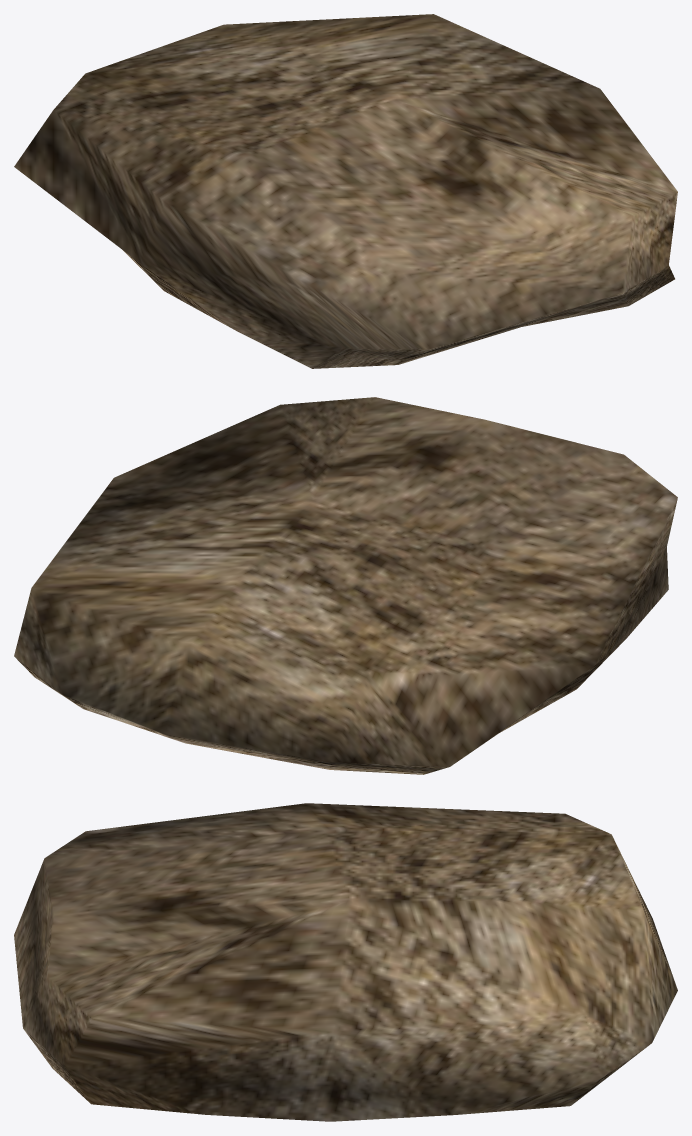
The model's file is stone1_tex1.fbx.
3 renders of one model, top to bottom at view 1: azimuth 30°, elevation 25°; view 2: azimuth 150°, elevation 25°; view 3: azimuth 270°, elevation 25°, orthographic. The views are drawn at different scales.
Visible parts, largest first — view 1: stone1_tex1Object; view 2: stone1_tex1Object; view 3: stone1_tex1Object.
Part boxes in pixels (bbox=[...]): stone1_tex1Object: bbox=[14, 14, 677, 368]; stone1_tex1Object: bbox=[14, 397, 677, 774]; stone1_tex1Object: bbox=[14, 803, 677, 1121].
Size of the model in its own units: 1.56 by 0.4137 by 1.92.
Materials: 1 (1 with a texture image).
